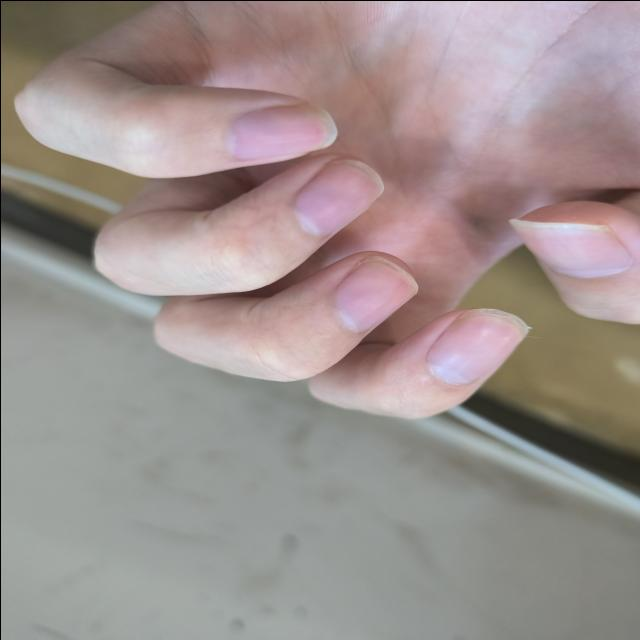Nail: (424, 308, 525, 383), (509, 218, 629, 276), (292, 159, 382, 232), (223, 103, 336, 159), (333, 255, 417, 329)
